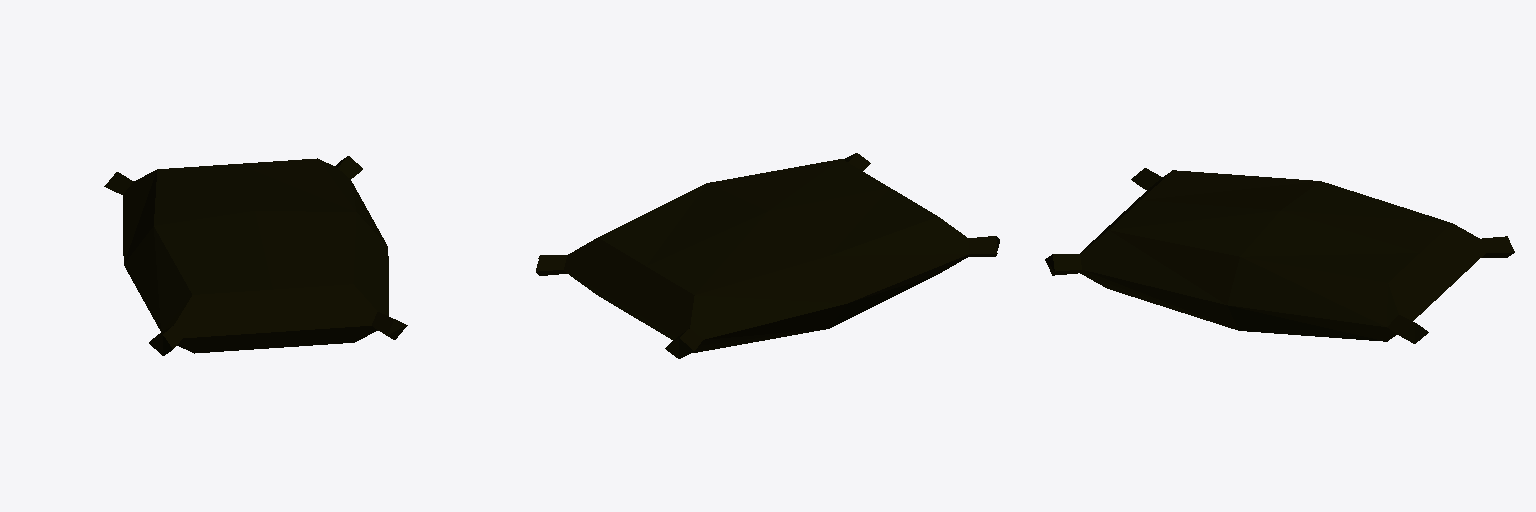
Rendered from Saco_de_barrera.obj.
3 views of the same model, side by side, from view 1: azimuth 30°, elevation 25°; view 2: azimuth 150°, elevation 25°; view 3: azimuth 270°, elevation 25° (orthographic).
Parts seen in each view (by area): view 1: Saco_Cube; view 2: Saco_Cube; view 3: Saco_Cube.
Boxes of the visible parts, <box> form: Saco_Cube: <box>104,156,407,355</box>; Saco_Cube: <box>536,153,999,358</box>; Saco_Cube: <box>1045,168,1514,343</box>.
Size of the model in its own units: 1.02 by 0.2598 by 1.23.